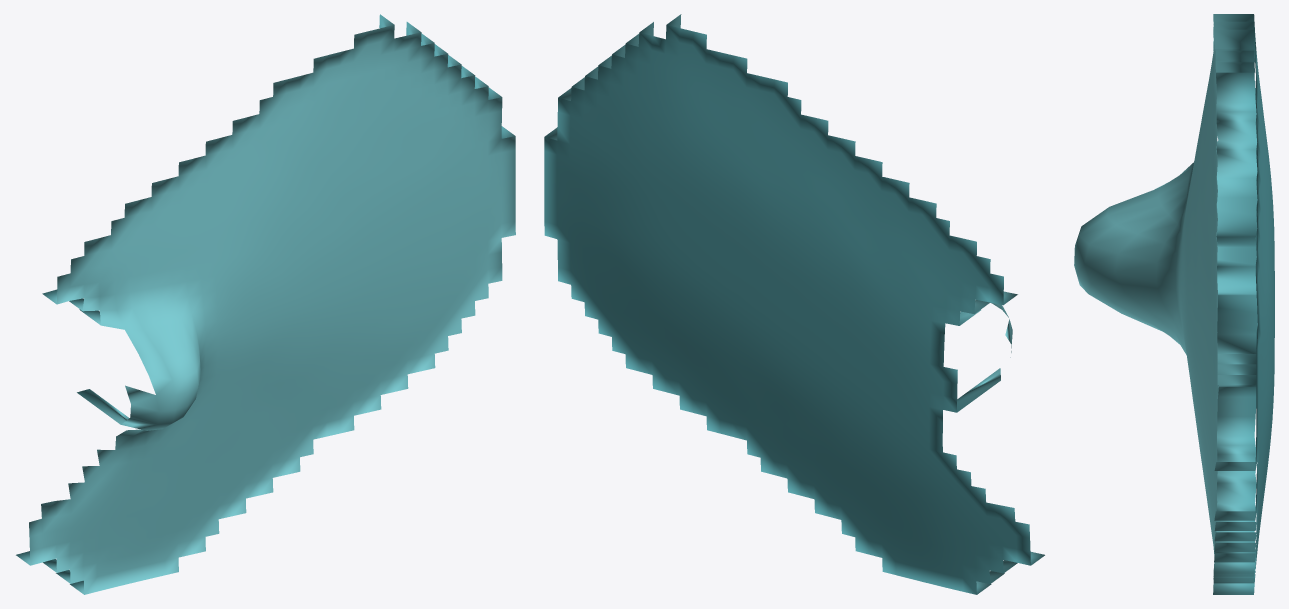
File: PAIR-OFFLOAD-4TH-5TH_LEFT_addon.glb
3 renders of one model, left to right at view 1: azimuth 30°, elevation 25°; view 2: azimuth 150°, elevation 25°; view 3: azimuth 270°, elevation 25°, orthographic. The views are drawn at different scales.
Visible parts, largest first — view 1: geometry_0; view 2: geometry_0; view 3: geometry_0.
Boxes of the visible parts, left/top/right/bottom form: geometry_0: left=16, top=14, right=515, bottom=594; geometry_0: left=544, top=14, right=1044, bottom=594; geometry_0: left=1074, top=14, right=1274, bottom=594.
Bounding box in the file's own units: 36 × 35 × 9.31.
